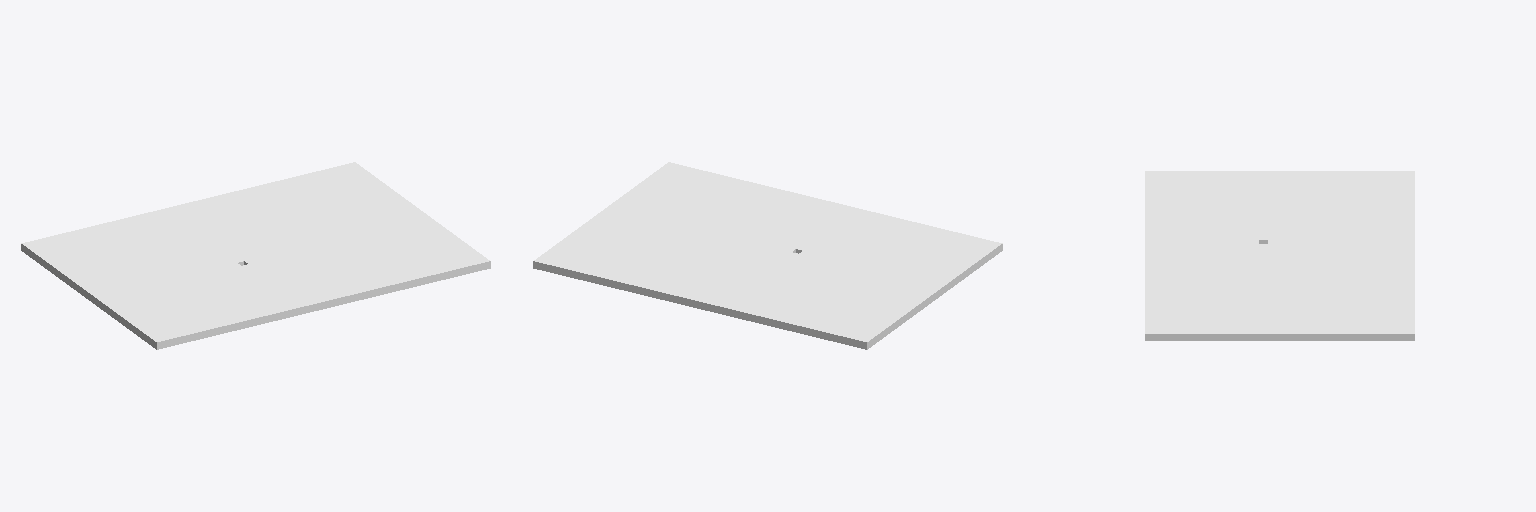
File: fullsky-0.obj
3 views of the same model, side by side, from view 1: azimuth 30°, elevation 25°; view 2: azimuth 150°, elevation 25°; view 3: azimuth 270°, elevation 25° (orthographic).
Parts seen in each view (by area): view 1: object 1; view 2: object 1; view 3: object 1.
Part boxes in pixels (bbox=[...]): object 1: bbox=[21, 162, 490, 349]; object 1: bbox=[533, 162, 1002, 349]; object 1: bbox=[1145, 171, 1414, 340].
Size of the model in its own units: 4.7 by 0.1 by 3.3.